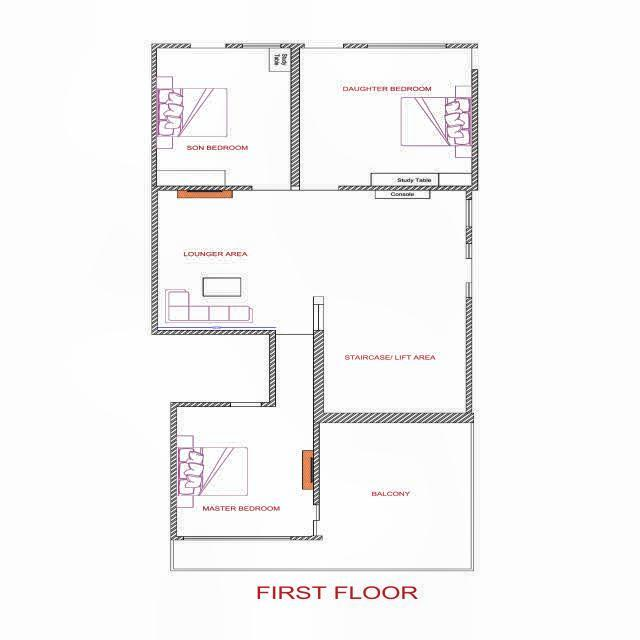room: (175, 424, 473, 567), (301, 48, 472, 187), (160, 190, 300, 328), (158, 48, 292, 186), (174, 406, 315, 534), (325, 298, 468, 413)
